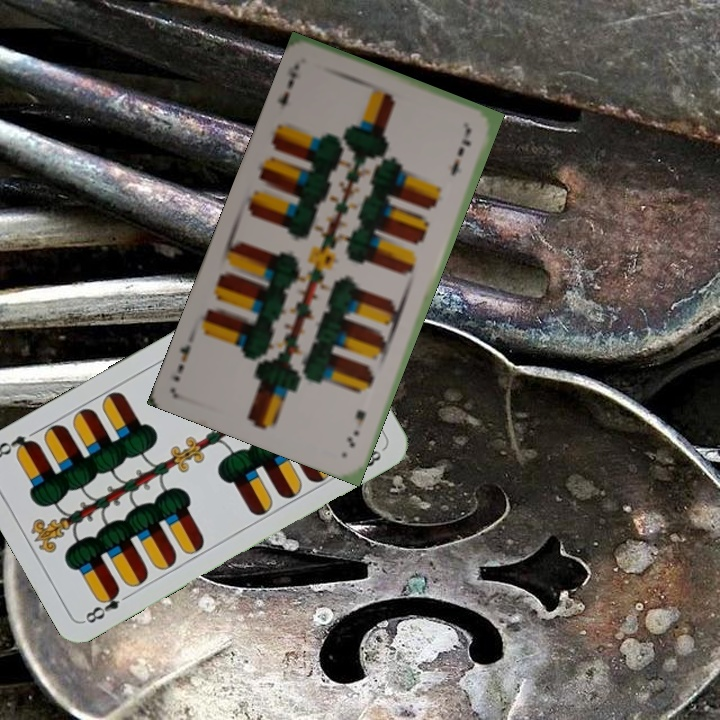E7: (273, 59, 302, 109), (342, 406, 368, 450)
E8: (81, 584, 123, 626)
